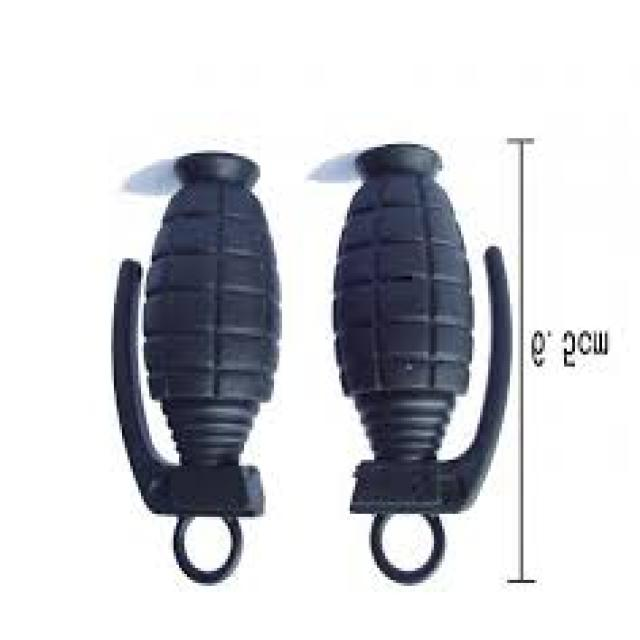grenade: (321, 144, 525, 593), (108, 153, 292, 592)
